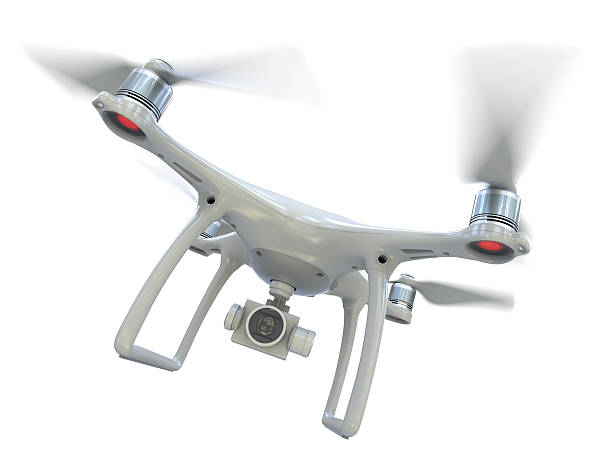Drone: (23, 32, 568, 441)
